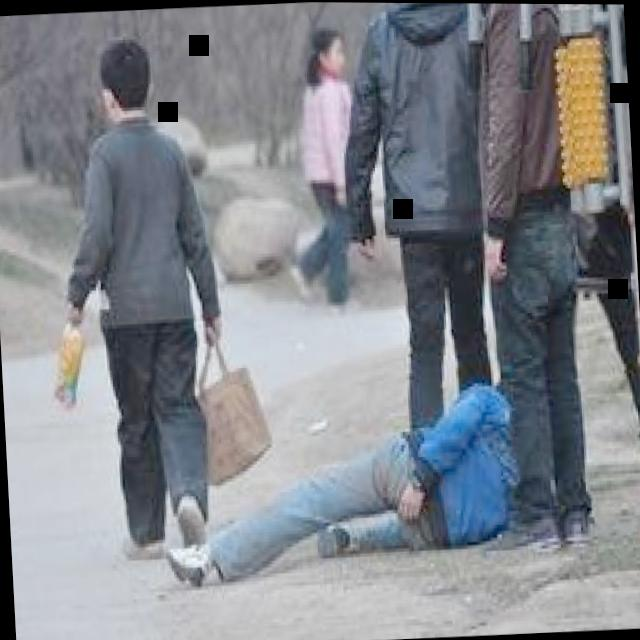Fall-Detected: (150, 359, 532, 587)
